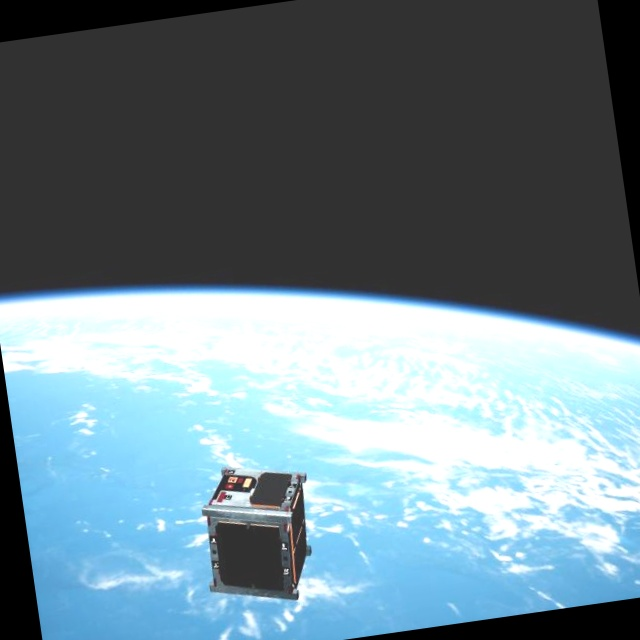medium_debris: (190, 461, 324, 613)
